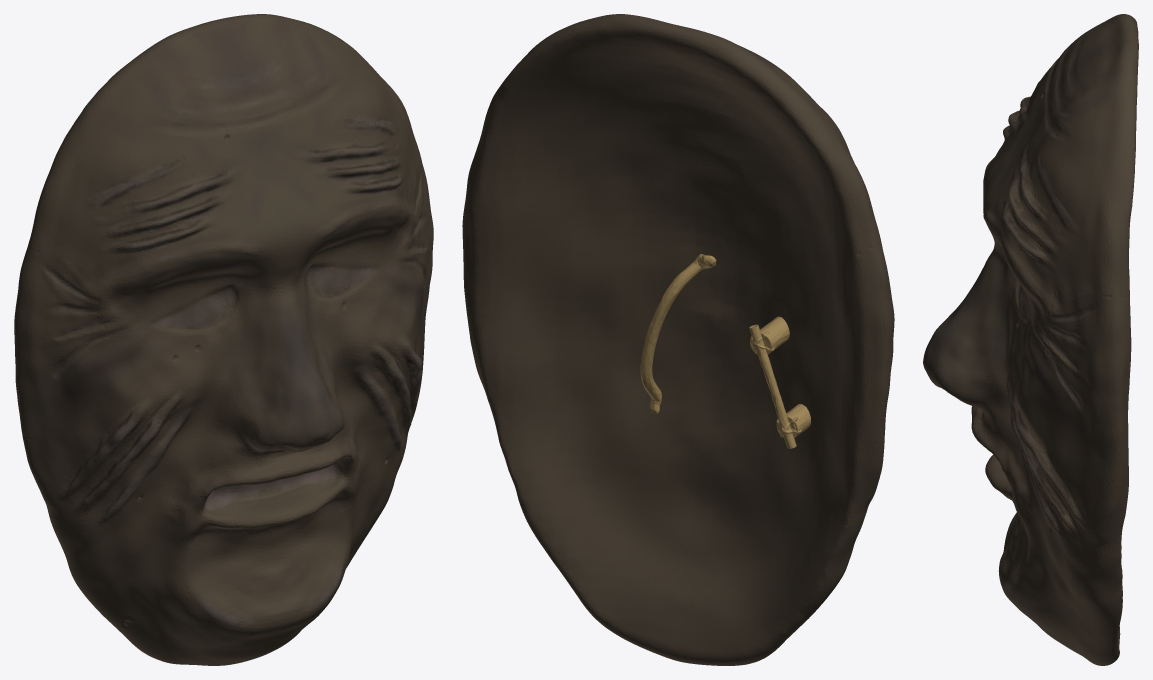
Rendered from Shield_Man_LOD1.glb.
The picture shows the model from 3 angles, left to right: view 1: azimuth 30°, elevation 25°; view 2: azimuth 150°, elevation 25°; view 3: azimuth 270°, elevation 25°; orthographic projection. The views are drawn at different scales.
Parts seen in each view (by area): view 1: Quad Sphere; view 2: Quad Sphere, Handle, Tube; view 3: Quad Sphere.
Boxes of the visible parts, x1,y1,x2,y2 form: Quad Sphere: (14,14,433,665); Quad Sphere: (462,14,894,665); Handle: (749,316,810,448); Tube: (640,254,716,414); Quad Sphere: (923,14,1138,665).
Bounding box in the file's own units: 0.6244 × 0.9041 × 0.2887.
